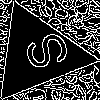S: (12, 28, 72, 78)
